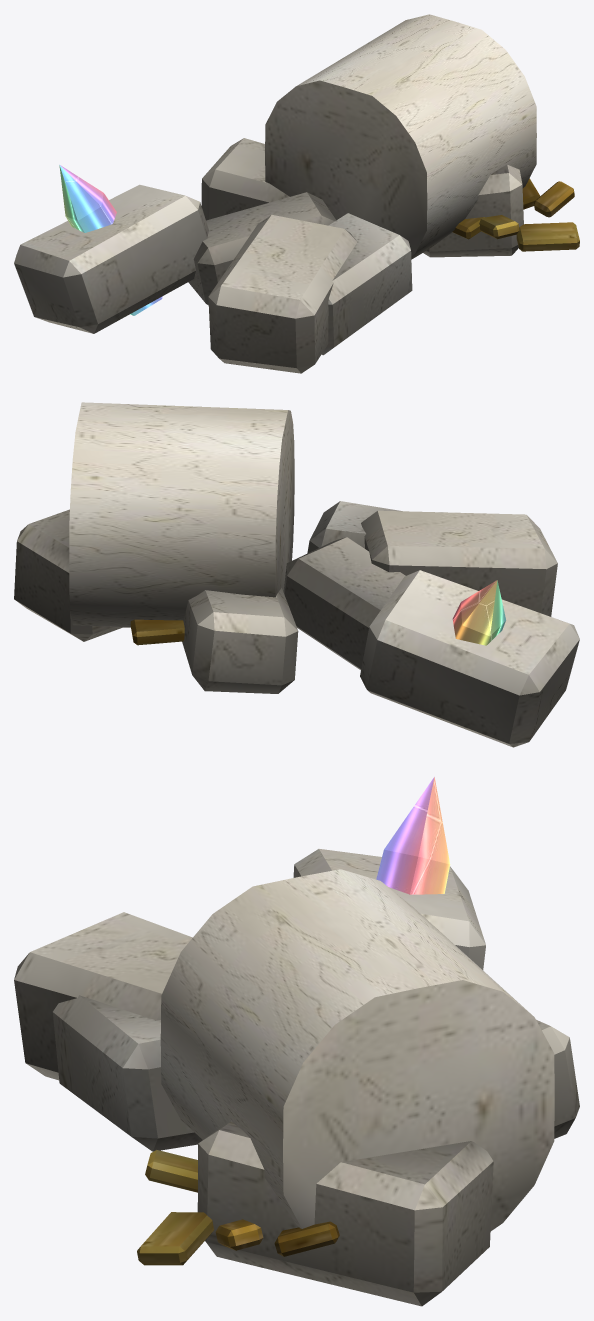
Rendered from bifrost_gold_rubble.glb.
3 views of the same model, one above another, from view 1: azimuth 30°, elevation 25°; view 2: azimuth 150°, elevation 25°; view 3: azimuth 270°, elevation 25° (orthographic). The views are drawn at different scales.
Visible parts, largest first — view 1: bifrost_gold_rubble; view 2: bifrost_gold_rubble; view 3: bifrost_gold_rubble.
Part boxes in pixels (<box>): bifrost_gold_rubble: <box>14,14,579,373</box>; bifrost_gold_rubble: <box>14,402,579,747</box>; bifrost_gold_rubble: <box>14,777,579,1306</box>.
Bounding box in the file's own units: 1.63 × 0.6491 × 1.08.
Materials: 3 (3 with a texture image).
